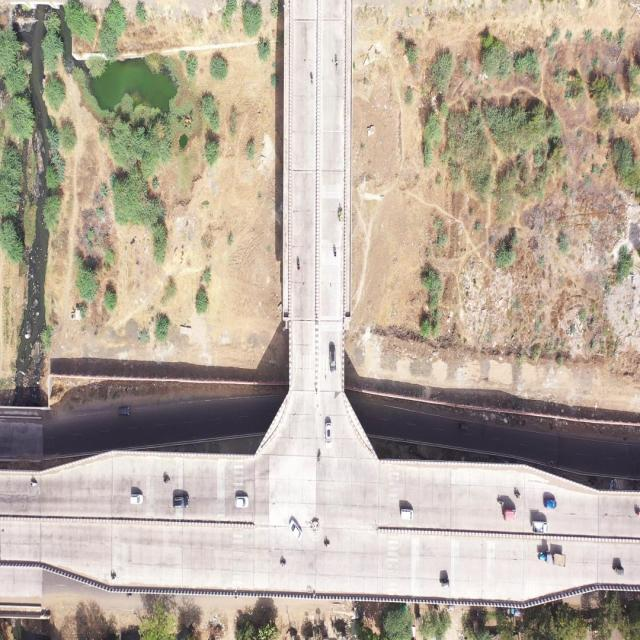3W: (610, 563, 626, 579), (439, 575, 451, 591)
Cars: (286, 514, 304, 543), (169, 492, 192, 512), (234, 492, 251, 512), (327, 344, 337, 378), (543, 493, 559, 513), (130, 487, 144, 509), (398, 506, 415, 524), (324, 419, 333, 450), (116, 406, 132, 418)
LCV: (530, 517, 548, 539), (503, 509, 519, 524)
M2W: (332, 56, 341, 77), (336, 205, 344, 228), (28, 476, 40, 491), (330, 242, 338, 264), (279, 554, 288, 571), (314, 449, 321, 470), (161, 474, 172, 487), (323, 535, 331, 552), (295, 256, 302, 274), (496, 497, 506, 508), (308, 70, 314, 88), (632, 506, 640, 519), (515, 490, 522, 500)
MAV: (537, 549, 567, 575)
